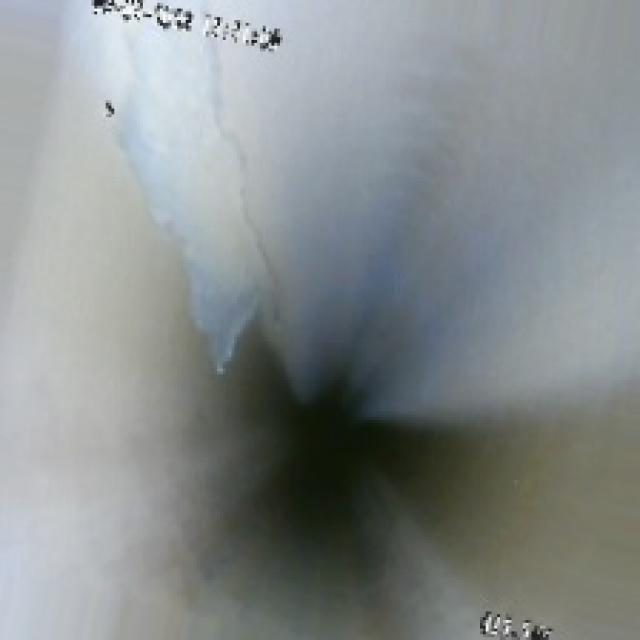pipe_surface_damage: (132, 48, 268, 366)
